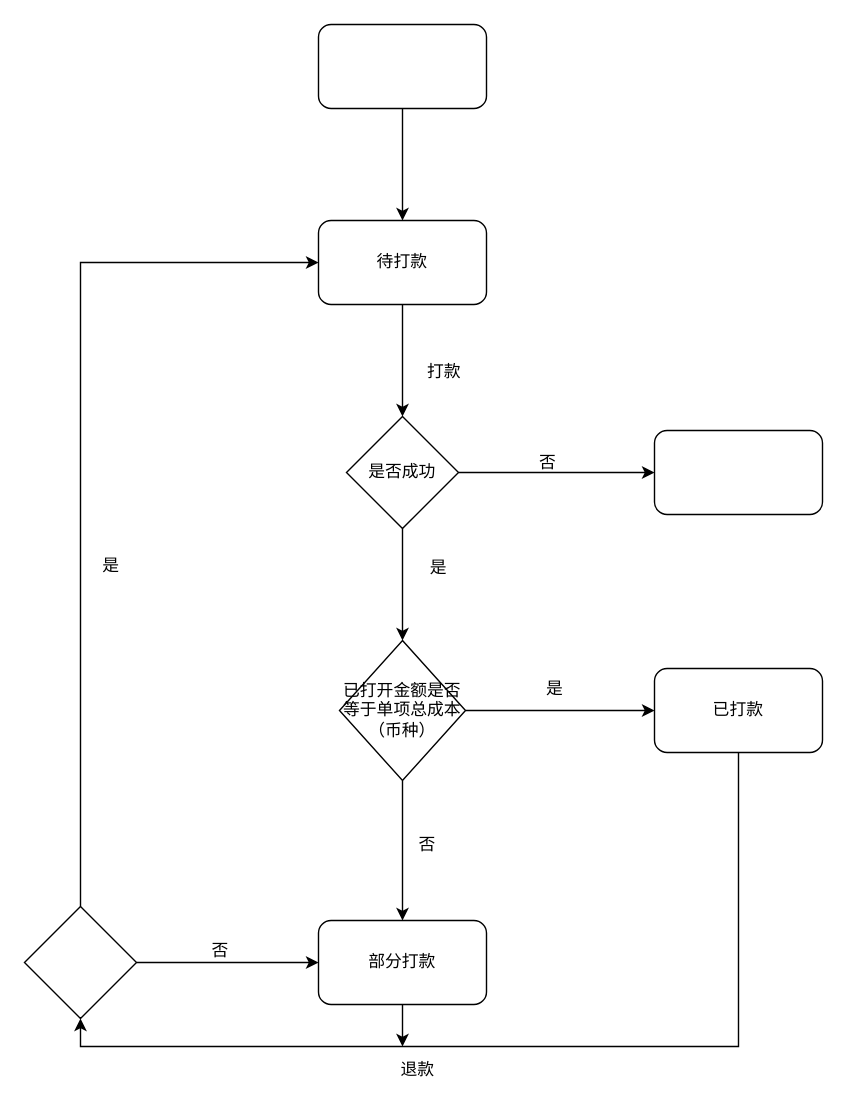
Some shapes in this 847 by 1109 pixel diagram are drawn without their labels. Each missing label, with the centre of its shape:
NS调用dubbo: (x=401, y=65)
不操作状态: (x=737, y=471)
已打款金额是否为0: (x=79, y=961)
